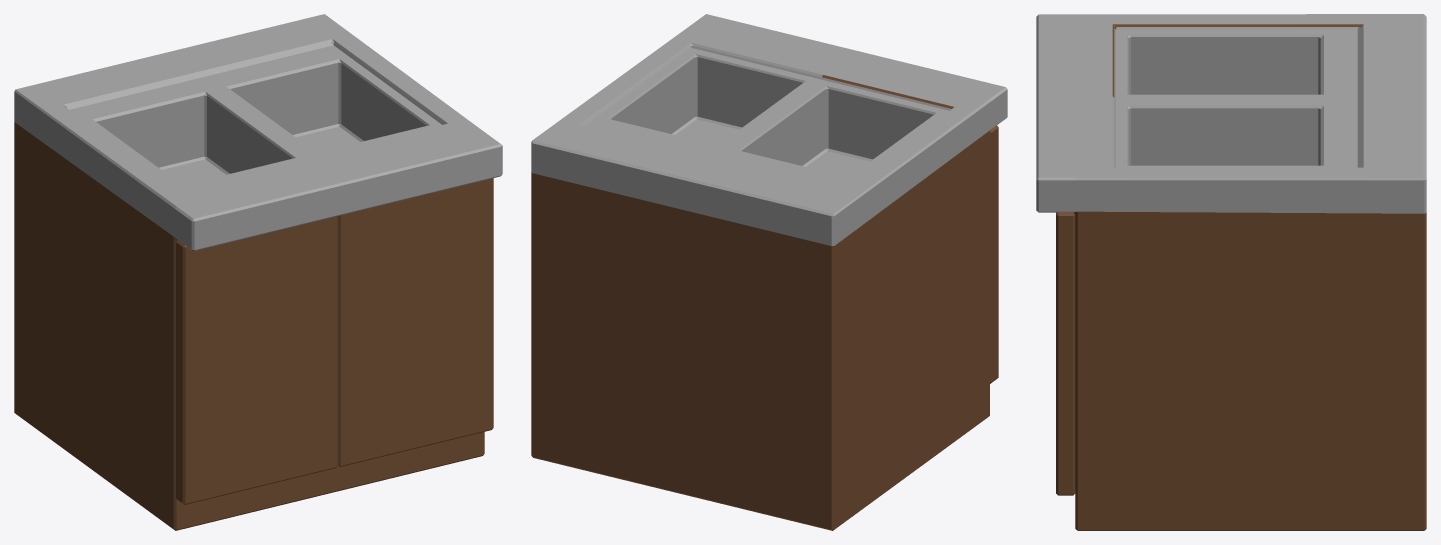
The model's file is tmp_sink.fbx.
The picture shows the model from 3 angles, left to right: view 1: azimuth 30°, elevation 25°; view 2: azimuth 150°, elevation 25°; view 3: azimuth 270°, elevation 25°; orthographic projection. The views are drawn at different scales.
Visible parts, largest first — view 1: Sink; view 2: Sink; view 3: Sink.
Part boxes in pixels (<box>): Sink: <box>14,14,502,530</box>; Sink: <box>531,14,1007,530</box>; Sink: <box>1036,14,1426,530</box>.
Bounding box in the file's own units: 100 × 100 × 100.
